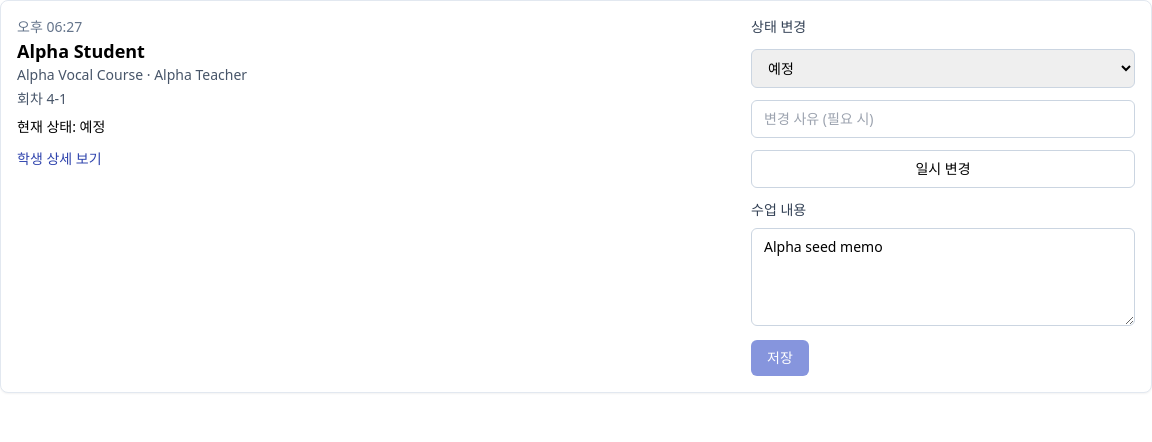
Test: TodayLessonsPanel › rolls back failed status changes
Select "완료" in the dropdown labelled "상태 변경" at (943, 68), box [751,49,1135,88]
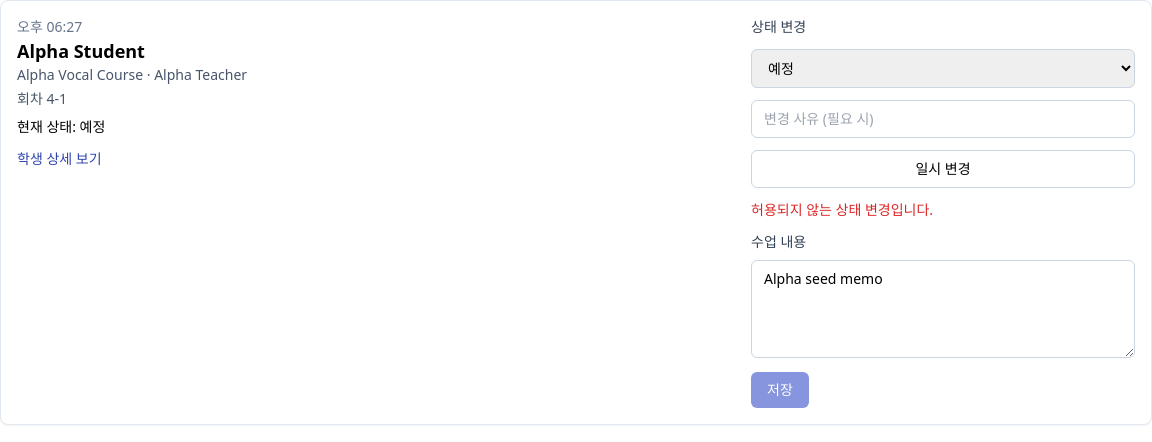
Check: the message shows "허용되지 않는", box [751,200,933,219]
